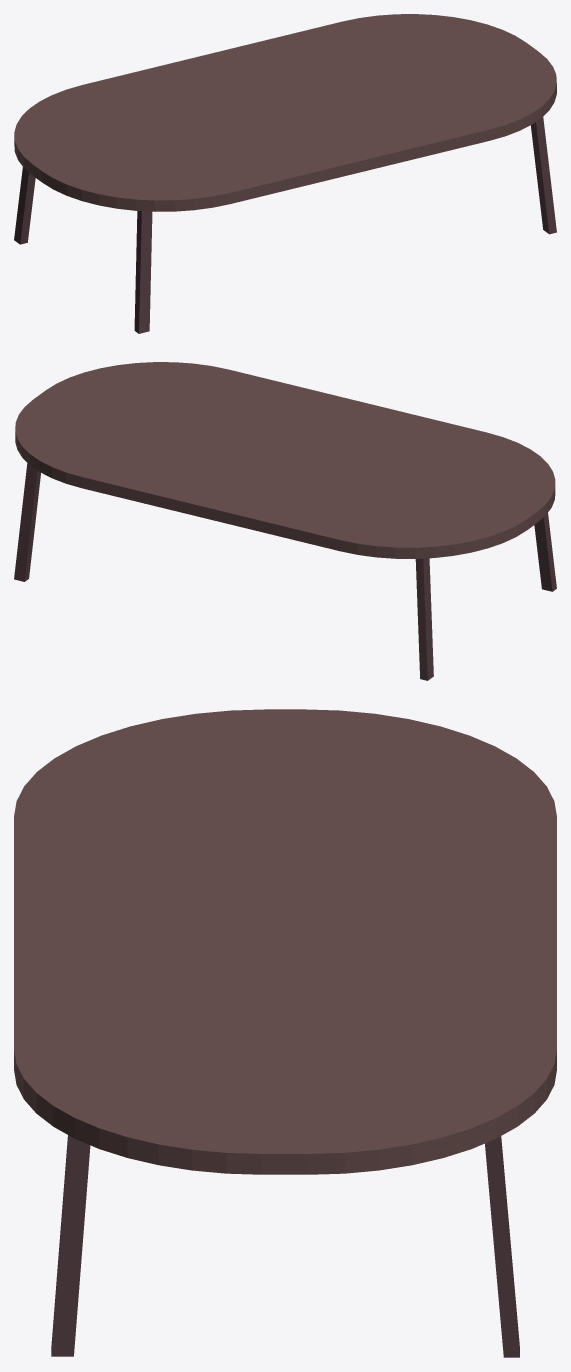
The model's file is Table2.fbx.
3 views of the same model, one above another, from view 1: azimuth 30°, elevation 25°; view 2: azimuth 150°, elevation 25°; view 3: azimuth 270°, elevation 25° (orthographic). The views are drawn at different scales.
Visible parts, largest first — view 1: Cube; view 2: Cube; view 3: Cube.
Part boxes in pixels (x1,y1,x2,y2): Cube: (14,14,556,333); Cube: (14,362,556,680); Cube: (14,709,556,1357).
Bounding box in the file's own units: 891 × 222 × 460.
